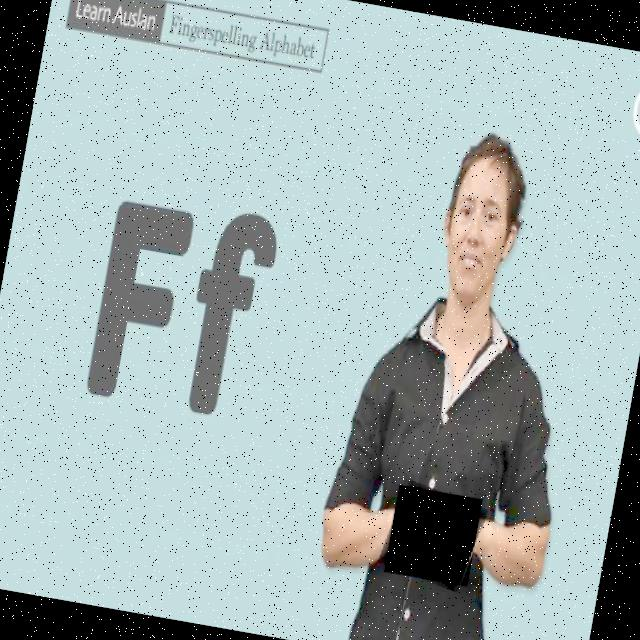F: (380, 481, 489, 592)
